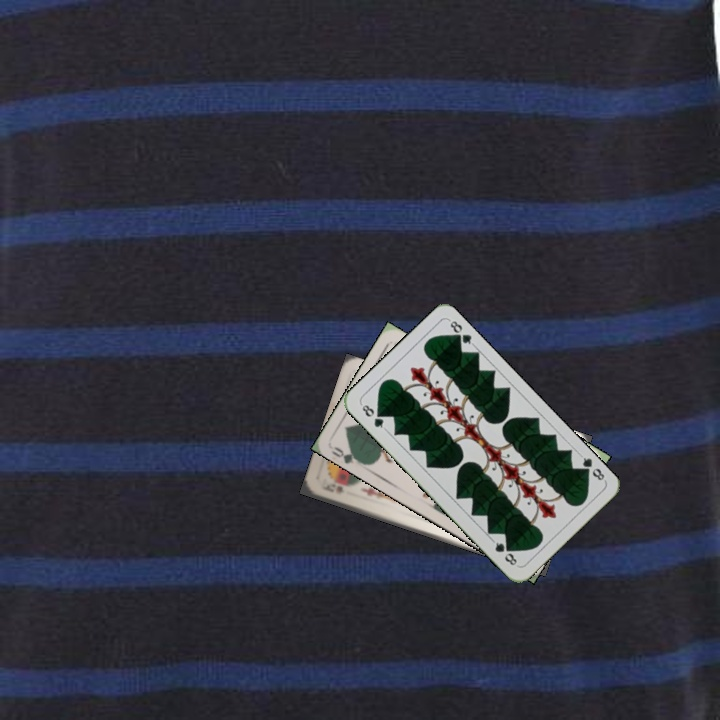G8: (357, 400, 389, 432), (576, 451, 608, 483)
GO: (328, 442, 366, 467)
SK: (317, 479, 346, 495)
